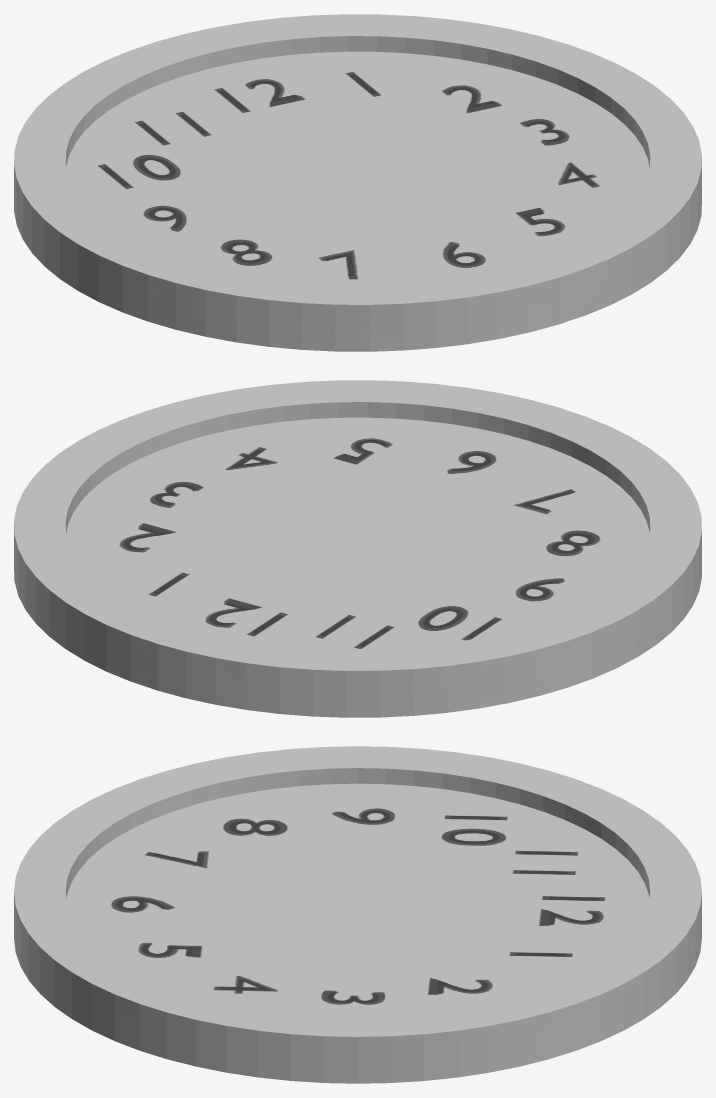
The model's file is Clock_Cock.fbx.
The picture shows the model from 3 angles, top to bottom: view 1: azimuth 30°, elevation 25°; view 2: azimuth 150°, elevation 25°; view 3: azimuth 270°, elevation 25°; orthographic projection.
Parts seen in each view (by area): view 1: Circle; view 2: Circle; view 3: Circle.
Boxes of the visible parts, bbox=[...] form: Circle: bbox=[14, 14, 701, 351]; Circle: bbox=[14, 380, 701, 717]; Circle: bbox=[14, 746, 701, 1083].
Size of the model in its own units: 200 by 15 by 200.
